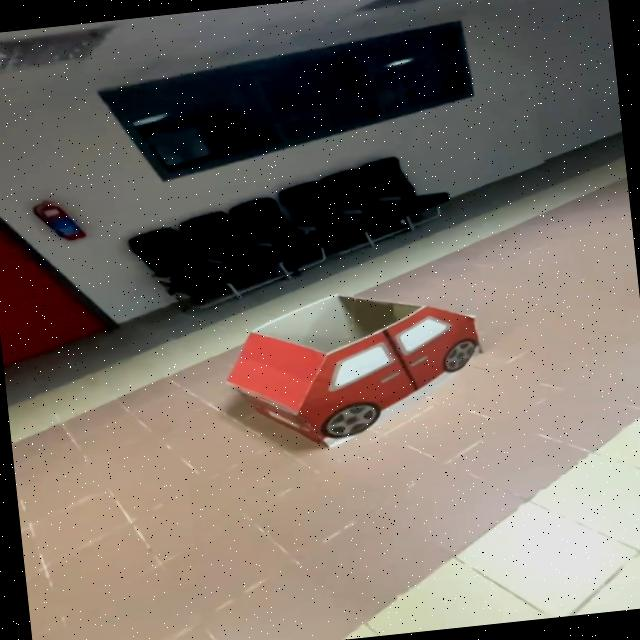red_car: (165, 266, 564, 482)
